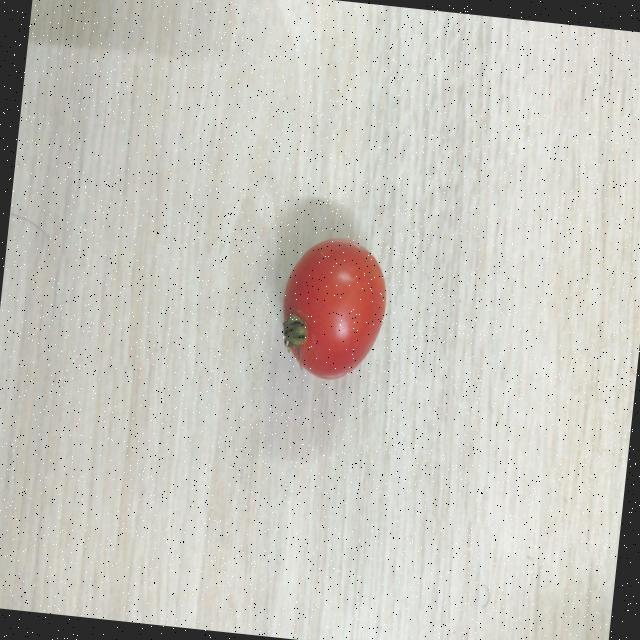Tomato: (274, 230, 396, 389)
